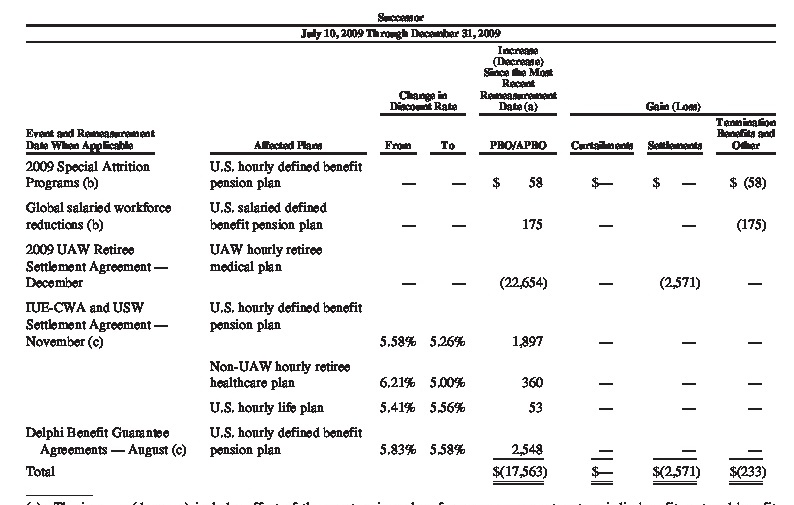table: (0, 0, 794, 505)
